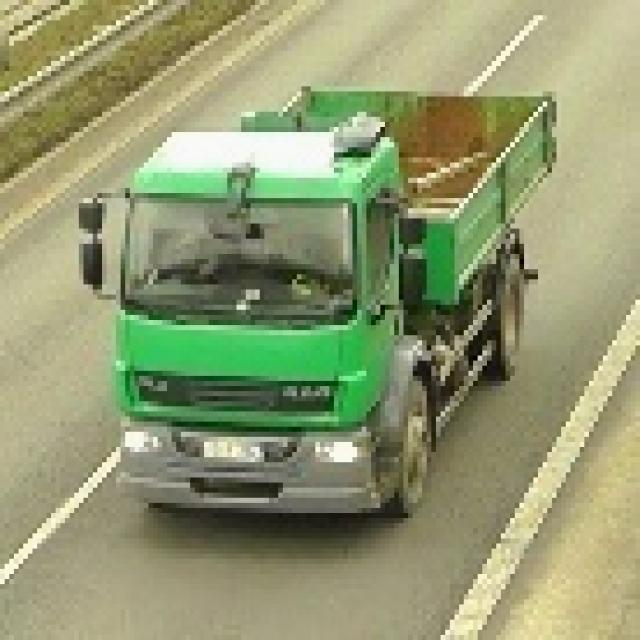truck: (75, 77, 553, 519)
